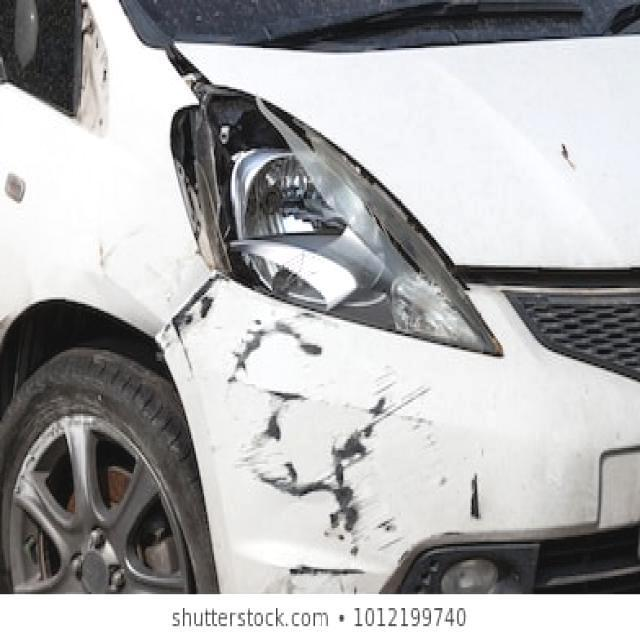minor: (92, 225, 125, 271)
moderate: (160, 48, 640, 589), (169, 80, 484, 333), (555, 141, 592, 185)
severe: (238, 401, 386, 540)
